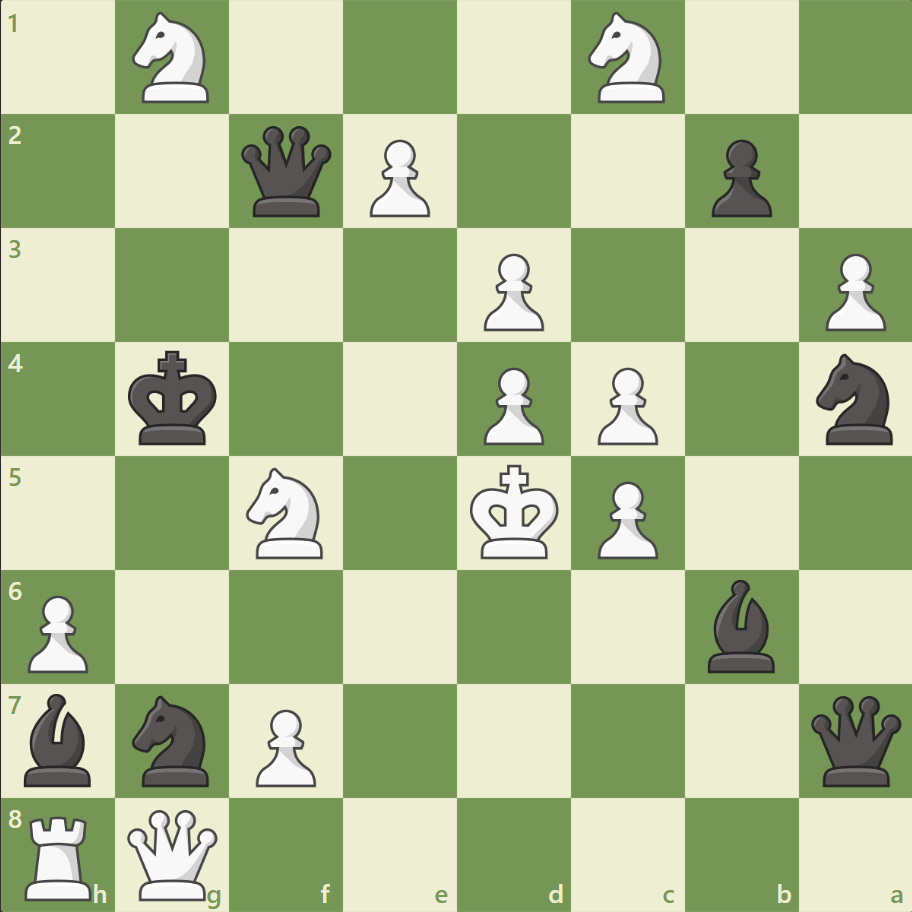K: (465, 458, 565, 566)
N: (124, 7, 222, 110), (238, 461, 335, 564), (579, 7, 676, 110)
P: (247, 700, 322, 791), (20, 586, 95, 677), (474, 359, 549, 450), (474, 246, 549, 337), (588, 473, 662, 564), (588, 359, 662, 450), (815, 246, 889, 337), (361, 132, 435, 223)
Q: (124, 804, 223, 903)
R: (19, 806, 102, 904)
b: (17, 687, 101, 790), (698, 574, 782, 676)
k: (124, 344, 224, 452)
n: (124, 688, 222, 791), (806, 348, 903, 450)
p: (701, 132, 776, 223)
q: (237, 122, 336, 222), (805, 690, 904, 789)
